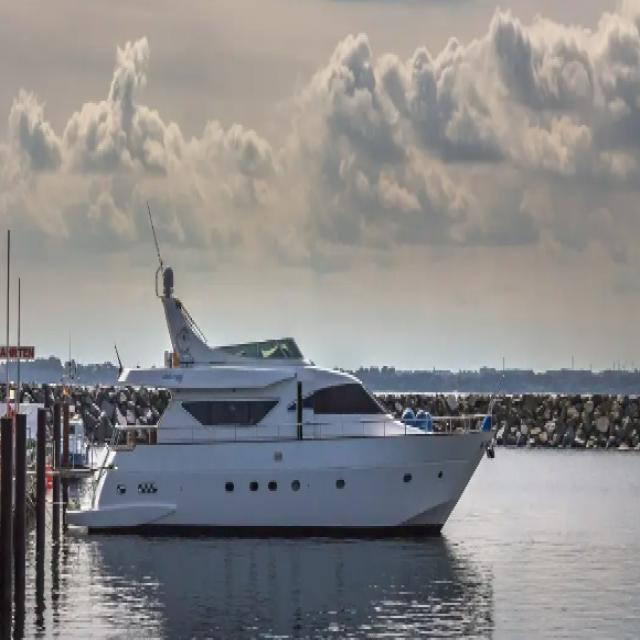houseboat: (71, 261, 502, 551)
